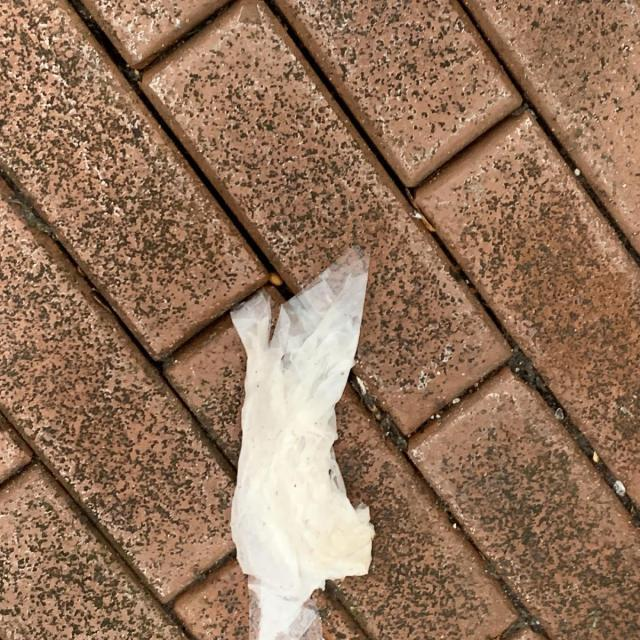Paper: (228, 244, 376, 638)
